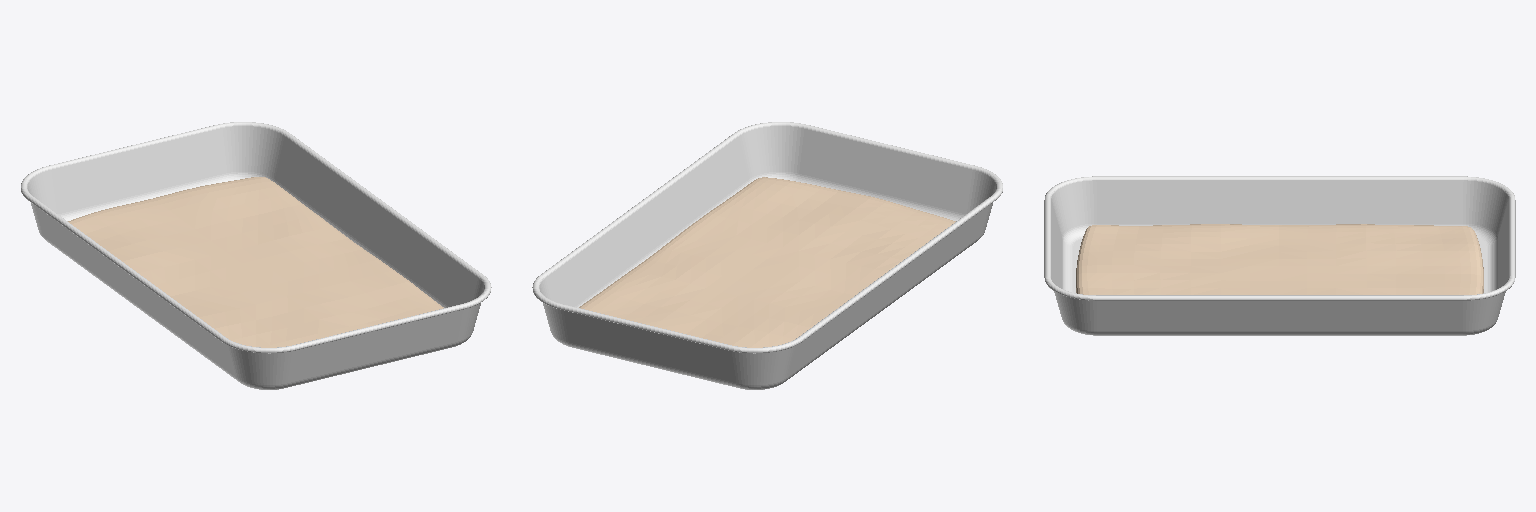
URDF robot description (tray):
<?xml version="0.0" ?>
<robot name="tray">
    <material name="white">
        <color rgba="0.95 0.95 0.95 1"/>
    </material>
    <material name="rose">
        <color rgba="0.96 0.87 0.77 1"/>
    </material>
    <material name="dummy">
        <color rgba="0 0 0 0"/>
    </material>

    <link name="baseLink">
        <contact>
            <lateral_friction value="1.0"/>
        </contact>
        <inertial>
            <origin rpy="0 0 0" xyz="0 0 0.000181"/>
            <mass value=".0"/>
            <inertia ixx="0" ixy="0" ixz="0" iyy="0" iyz="0" izz="0"/>
        </inertial>
        <visual>
            <origin rpy="0 0 0" xyz="0 0 0"/>
            <geometry>
                <mesh filename="meshes/tray.obj" scale="1 1 1"/>
            </geometry>
            <material name="white"/>
        </visual>
        <collision>
            <origin rpy="0 0 0" xyz="0 0 0.000181"/>
            <geometry>
                <box size="0.120 0.196 0.000362"/>
            </geometry>
        </collision>
    </link>

    <link name="border_1">
        <inertial>
            <origin rpy="0 0 0" xyz="0 0 0"/>
            <mass value=".0"/>
            <inertia ixx="0" ixy="0" ixz="0" iyy="0" iyz="0" izz="0"/>
        </inertial>
        <visual>
            <geometry>
                <box size="0 0 0"/>
            </geometry>
            <material name="dummy"/>
        </visual>
        <collision>
            <origin rpy="0 0 0" xyz="0 0 0"/>
            <geometry>
                <box size="0.120 0.003 0.022"/>
            </geometry>
        </collision>
    </link>

    <joint name="border_joint_1" type="fixed">
        <parent link="baseLink"/>
        <child link="border_1"/>
        <origin rpy="0 0 0" xyz="0 -0.095 0.011"/>
    </joint>

    <link name="border_2">
        <inertial>
            <origin rpy="0 0 0" xyz="0 0 0"/>
            <mass value=".0"/>
            <inertia ixx="0" ixy="0" ixz="0" iyy="0" iyz="0" izz="0"/>
        </inertial>
        <visual>
            <geometry>
                <box size="0 0 0"/>
            </geometry>
            <material name="dummy"/>
        </visual>
        <collision>
            <origin rpy="0 0 0" xyz="0 0 0"/>
            <geometry>
                <box size="0.120 0.003 0.022"/>
            </geometry>
        </collision>
    </link>

    <joint name="border_joint_2" type="fixed">
        <parent link="baseLink"/>
        <child link="border_2"/>
        <origin rpy="0 0 0" xyz="0 0.095 0.011"/>
    </joint>

    <link name="border_3">
        <inertial>
            <origin rpy="0 0 0" xyz="0 0 0"/>
            <mass value=".0"/>
            <inertia ixx="0" ixy="0" ixz="0" iyy="0" iyz="0" izz="0"/>
        </inertial>
        <visual>
            <geometry>
                <box size="0 0 0"/>
            </geometry>
            <material name="dummy"/>
        </visual>
        <collision>
            <origin rpy="0 0 0" xyz="0 0 0"/>
            <geometry>
                <box size="0.003 0.196 0.022"/>
            </geometry>
        </collision>
    </link>

    <joint name="border_joint_3" type="fixed">
        <parent link="baseLink"/>
        <child link="border_3"/>
        <origin rpy="0 0 0" xyz="-0.058 0 0.011"/>
    </joint>

    <link name="border_4">
        <inertial>
            <origin rpy="0 0 0" xyz="0 0 0"/>
            <mass value=".0"/>
            <inertia ixx="0" ixy="0" ixz="0" iyy="0" iyz="0" izz="0"/>
        </inertial>
        <visual>
            <geometry>
                <box size="0 0 0"/>
            </geometry>
            <material name="dummy"/>
        </visual>
        <collision>
            <origin rpy="0 0 0" xyz="0 0 0"/>
            <geometry>
                <box size="0.003 0.196 0.022"/>
            </geometry>
        </collision>
    </link>

    <joint name="border_joint_4" type="fixed">
        <parent link="baseLink"/>
        <child link="border_4"/>
        <origin rpy="0 0 0" xyz="0.058 0 0.011"/>
    </joint>

    <link name="pad">
        <contact>
            <lateral_friction value="1.0"/>
        </contact>
        <inertial>
            <origin rpy="0 0 0" xyz="0 0 0.0036"/>
            <mass value=".0"/>
            <inertia ixx="0" ixy="0" ixz="0" iyy="0" iyz="0" izz="0"/>
        </inertial>
        <visual>
            <origin rpy="0 0 0" xyz="0 0 0"/>
            <geometry>
                <mesh filename="meshes/pad.obj" scale="1 1 1"/>
            </geometry>
            <material name="rose"/>
        </visual>
        <collision>
            <origin rpy="0 0 0" xyz="0 0 0.0036"/>
            <geometry>
                <box size="0.101 0.170 0.0052"/>
            </geometry>
        </collision>
    </link>

    <joint name="pad_joint" type="fixed">
        <parent link="baseLink"/>
        <child link="pad"/>
        <origin rpy="0 0 0" xyz="0 0 0"/>
    </joint>
</robot>

--- Facts derived from the render (not from the file) ---
3 views of the same robot in one strip: view 1: azimuth 30°, elevation 25°; view 2: azimuth 150°, elevation 25°; view 3: azimuth 270°, elevation 25° (orthographic).
Robot: tray — 6 links, 5 joints (5 fixed); root link baseLink; default pose: all joints at 0.
Links seen in each view (by area): view 1: baseLink, pad; view 2: baseLink, pad; view 3: baseLink, pad.
Boxes of the visible links, x1,y1,x2,y2 form: baseLink: [21, 122, 491, 389]; pad: [68, 177, 443, 347]; baseLink: [532, 122, 1002, 389]; pad: [579, 177, 955, 347]; baseLink: [1044, 176, 1515, 335]; pad: [1076, 224, 1483, 294].
Bounding box of the posed robot: 0.12 × 0.1962 × 0.0228 m (x, y, z).
Meshes: 2 distinct files referenced, 2 mesh visuals loaded (2 OBJ).